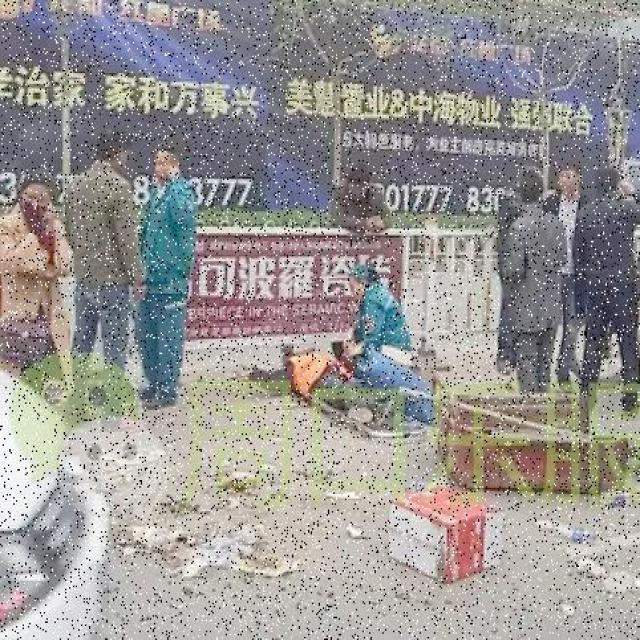fall: (264, 342, 382, 428)
